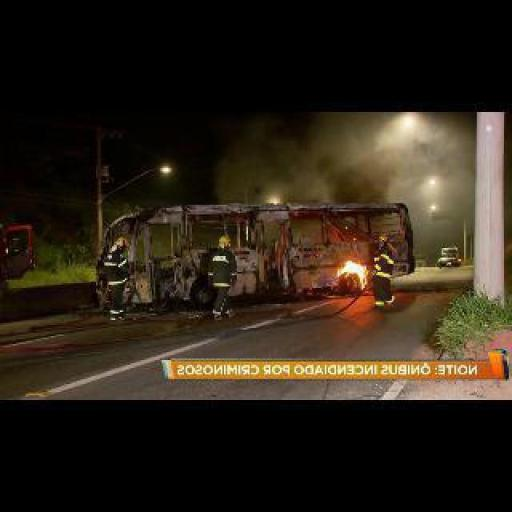smoke: (318, 134, 405, 224), (338, 259, 371, 290)
